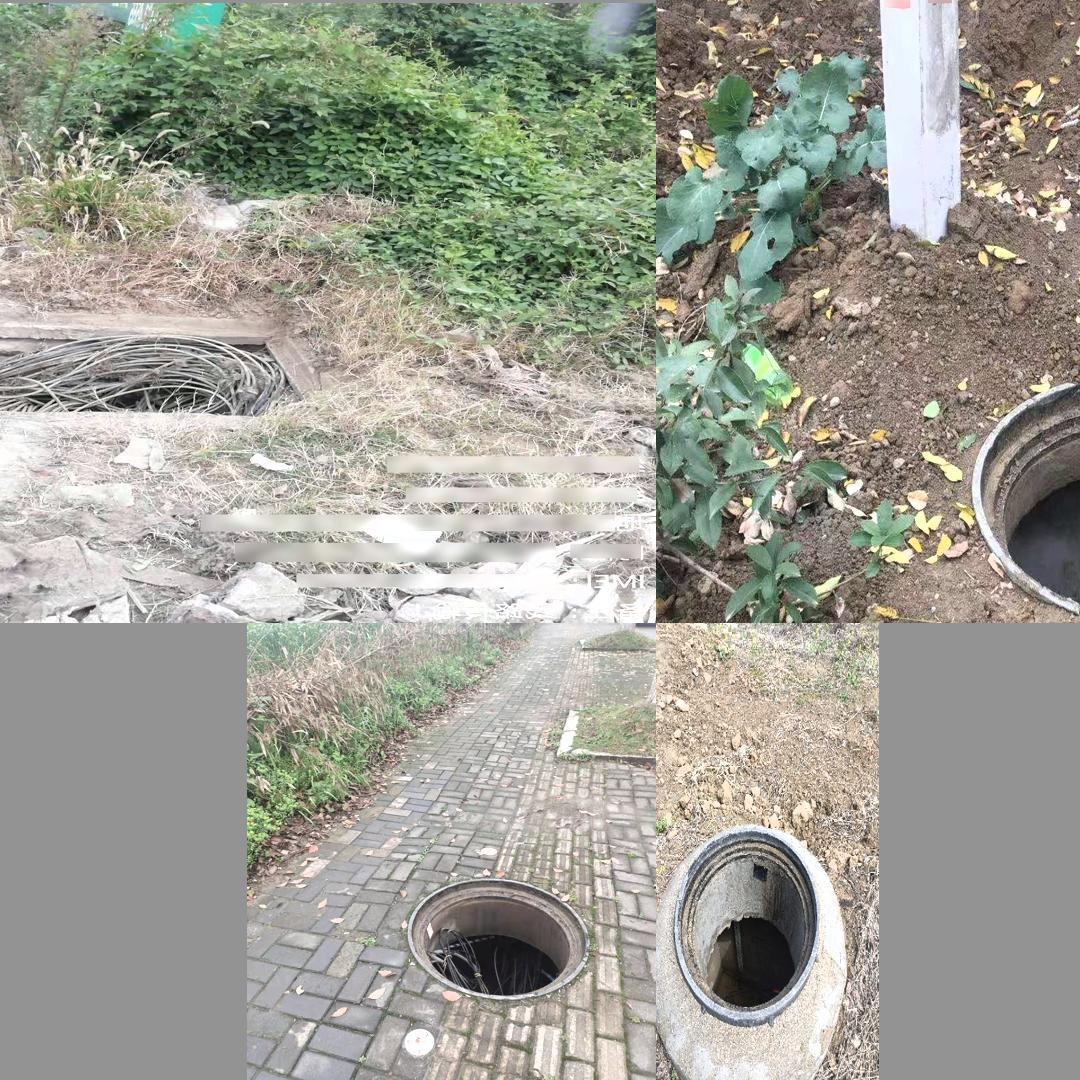lose: (0, 308, 332, 415), (951, 348, 1080, 621), (674, 825, 819, 1028), (407, 876, 589, 1000)
